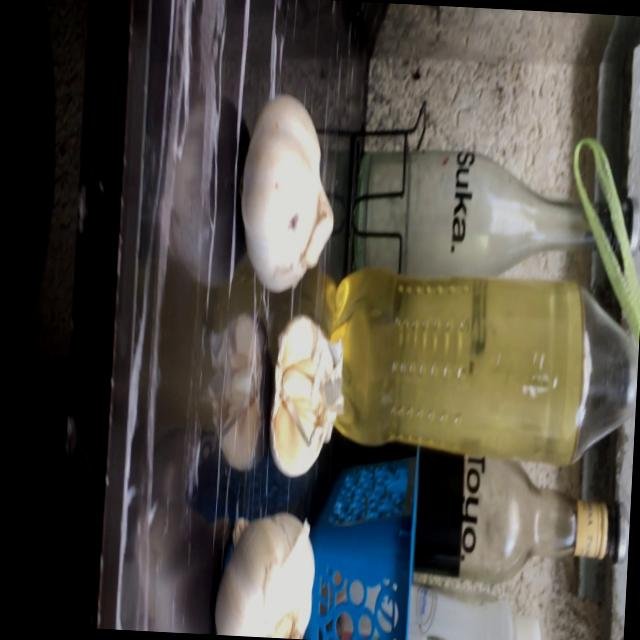garlic: (234, 85, 341, 298), (261, 313, 348, 487), (210, 505, 320, 640)
